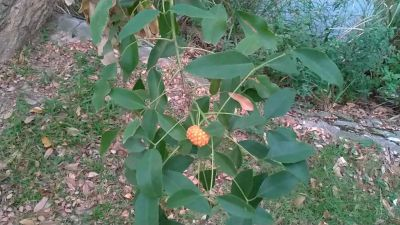eggs: (183, 122, 216, 148)
